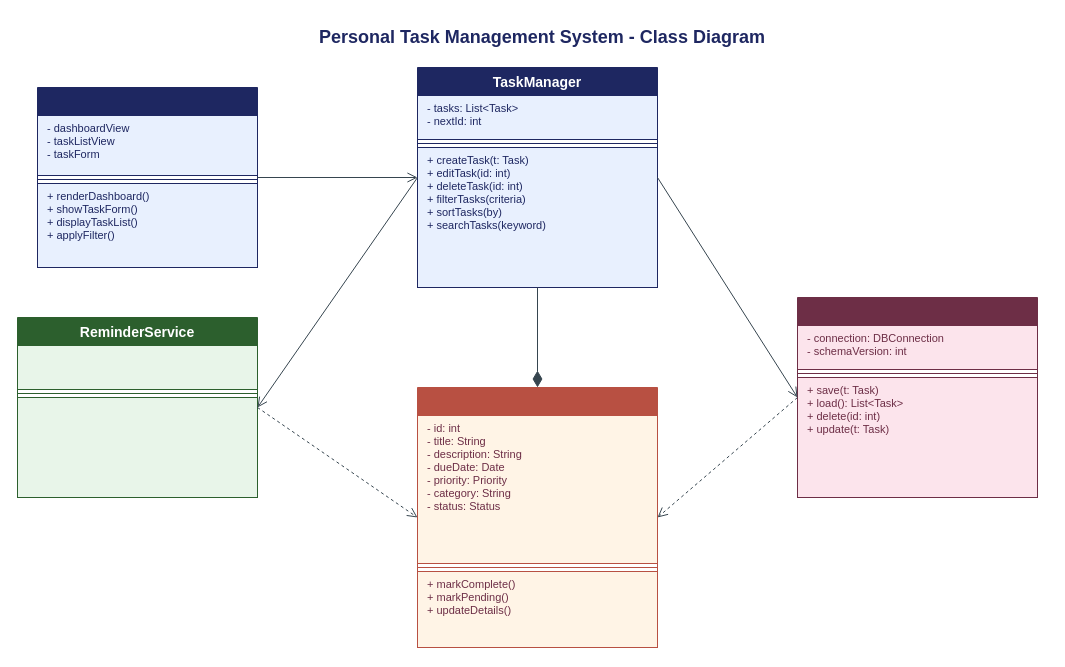
This 1065x667 diagram has some shape labels left out. Each missing label, with the box of its shape:
+ checkDueDates() + scheduleReminder(t: Task) + sendNotification(t: Task): (16, 396, 258, 498)
- pendingNotifications: List - intervalMs: int: (16, 344, 258, 390)
DataStorage: (796, 296, 1038, 498)
Task: (416, 386, 658, 648)
UserInterface: (36, 86, 258, 268)
